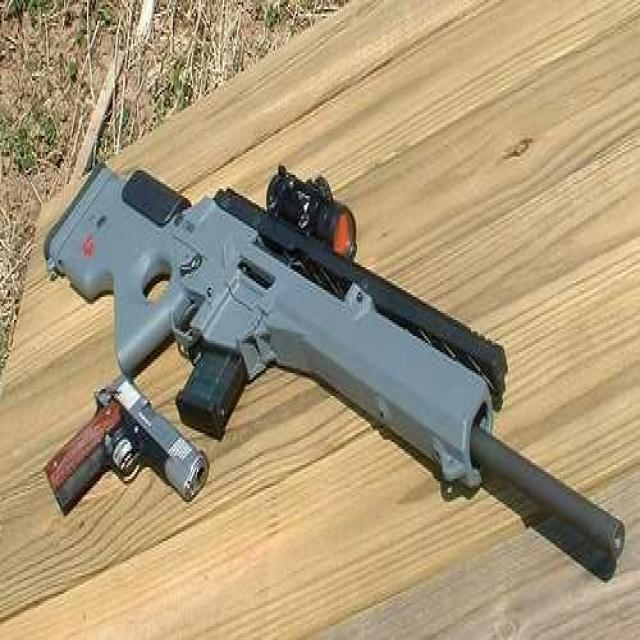heavyweapon: (46, 119, 631, 577)
